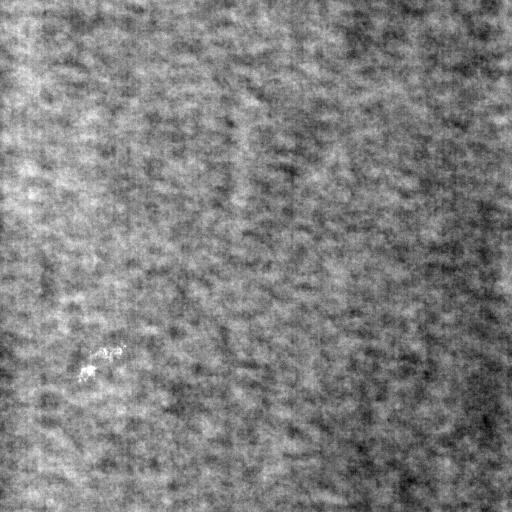DefectTypeA: (77, 344, 128, 381)
